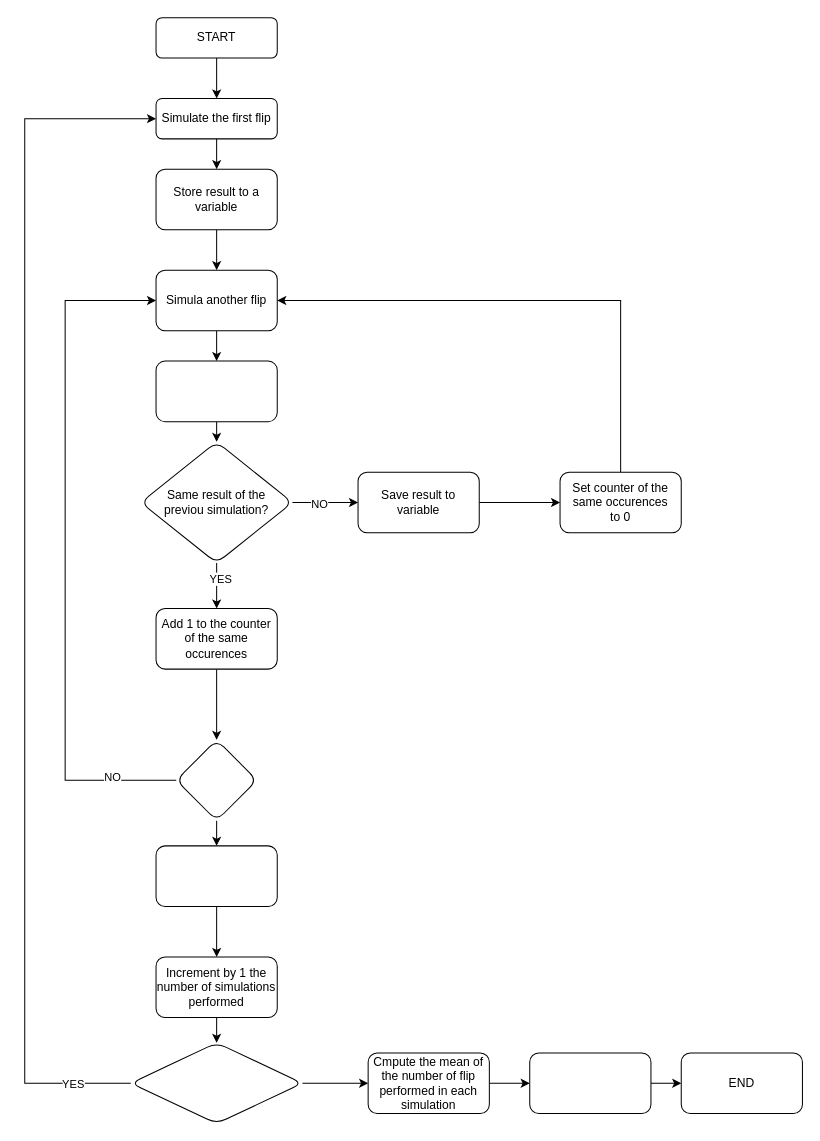
The diagram is 820 pixels wide and 1141 high, and some of its shapes have lost their labels. Each missing label, with the centre of its shape:
Counter>2?: pixel 216 780
Increment by 1 the number of flip performed during the simulation: pixel 216 391
Number of simulations performed<10?: pixel 216 1083
Print the mean of the flip performed: pixel 590 1083
Save the number of flip: pixel 216 875
